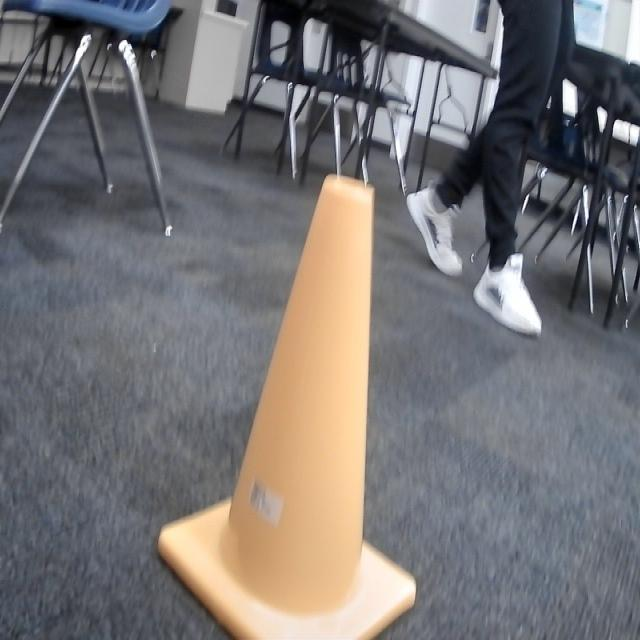cone: (156, 174, 416, 640)
